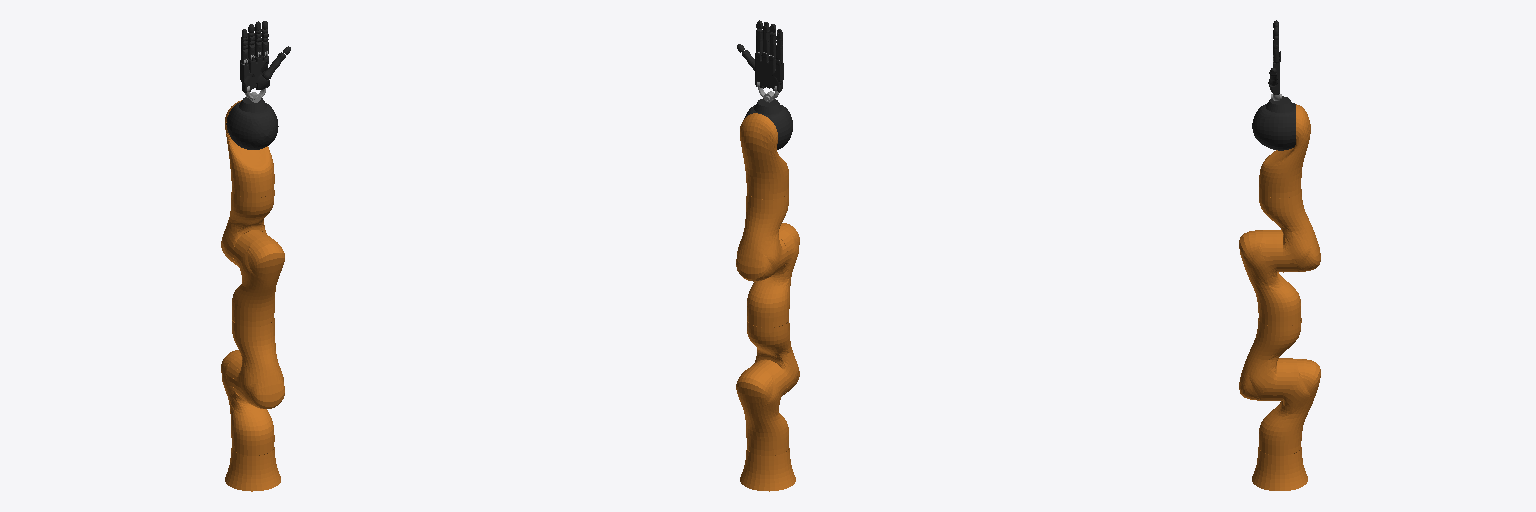
--- Render facts (derived) ---
The picture shows the robot from 3 angles, left to right: view 1: azimuth 30°, elevation 25°; view 2: azimuth 150°, elevation 25°; view 3: azimuth 270°, elevation 25°; orthographic projection.
Robot: kuka_lwr — 37 links, 36 joints (31 revolute, 5 fixed); root link calib_kuka_arm_base_link; default pose: all joints at 0.
Visible links, largest first — view 1: kuka_arm_3_link, kuka_arm_2_link, kuka_arm_1_link, calib_kuka_arm_base_link, kuka_arm_4_link, kuka_arm_5_link, kuka_arm_6_link, palm; view 2: kuka_arm_1_link, kuka_arm_4_link, kuka_arm_5_link, kuka_arm_3_link, calib_kuka_arm_base_link, kuka_arm_2_link, palm, kuka_arm_6_link; view 3: kuka_arm_3_link, kuka_arm_1_link, kuka_arm_2_link, kuka_arm_4_link, kuka_arm_5_link, calib_kuka_arm_base_link, kuka_arm_6_link.
Link boxes in pixels (box(x1,y1,x2,y2)): kuka_arm_3_link: box(232, 230, 284, 321); kuka_arm_2_link: box(232, 315, 284, 408); kuka_arm_1_link: box(221, 350, 274, 449); calib_kuka_arm_base_link: box(225, 444, 280, 491); kuka_arm_4_link: box(221, 186, 274, 264); kuka_arm_5_link: box(225, 100, 274, 192); kuka_arm_6_link: box(226, 102, 278, 149); palm: box(241, 54, 269, 92); kuka_arm_1_link: box(736, 360, 788, 450); kuka_arm_4_link: box(736, 188, 788, 281); kuka_arm_5_link: box(740, 113, 788, 193); kuka_arm_3_link: box(747, 223, 799, 322); calib_kuka_arm_base_link: box(740, 444, 795, 491); kuka_arm_2_link: box(747, 316, 799, 394); palm: box(755, 52, 782, 92); kuka_arm_6_link: box(744, 105, 792, 149); kuka_arm_3_link: box(1239, 230, 1300, 321); kuka_arm_1_link: box(1259, 358, 1320, 449); kuka_arm_2_link: box(1239, 315, 1301, 400); kuka_arm_4_link: box(1259, 187, 1320, 272); kuka_arm_5_link: box(1259, 104, 1310, 192); calib_kuka_arm_base_link: box(1252, 444, 1307, 490); kuka_arm_6_link: box(1252, 103, 1295, 150).
Size in the robot's own frame: 0.1913 by 0.2322 by 1.42 metres.
30 mesh visuals loaded from 16 distinct referenced files (16 binary STL).

The robot description file, URDF, robot "kuka_lwr":
<?xml version="1.0" ?>
<robot name="kuka_lwr">
  <material name="Blue">
    <color rgba="0.0 0.0 0.8 1.0"/>
  </material>
  <material name="Green">
    <color rgba="0.0 0.8 0.0 1.0"/>
  </material>
  <material name="BiotacGreen">
    <color rgba="0.31 0.85 0.42 1.0"/>
  </material>
  <material name="Orange">
    <color rgba="0.8 0.5 0.2 1.0"/>
  </material>
  <material name="Grey">
    <color rgba="0.2 0.2 0.2 1.0"/>
  </material>
  <material name="LightGrey">
    <color rgba="0.6 0.6 0.6 1.0"/>
  </material>
  <material name="Red">
    <color rgba="0.8 0.0 0.0 1.0"/>
  </material>
  <material name="White">
    <color rgba="1.0 1.0 1.0 1.0"/>
  </material>
  <!-- right is either 1 (for right arm) or -1 (for left arm) -->
  <link name="calib_kuka_arm_base_link">
    <inertial>
      <mass value="1e-20"/>
      <!-- static base, disable dynamics for this link -->
      <origin rpy="0 0 0" xyz="0 0 0.055"/>
      <inertia ixx="0.00381666666667" ixy="0" ixz="0" iyy="0.0036" iyz="0" izz="0.00381666666667"/>
    </inertial>
    <visual>
      <origin rpy="-1.57 0 0" xyz="0 0 0"/>
      <geometry>
        <mesh filename="package://robowflex_resources/shadowhand/meshes/meshes_arm/arm_base.stl"/>
      </geometry>
      <material name="Orange"/>
    </visual>
    <collision>
      <origin rpy="-1.57 0 0" xyz="0 0 0"/>
      <geometry>
        <mesh filename="package://robowflex_resources/shadowhand/meshes/meshes_arm/arm_base.stl"/>
      </geometry>
      <material name="Orange"/>
    </collision>
  </link>
  <joint name="kuka_arm_0_joint" type="revolute">
    <origin rpy="0 0 0" xyz="0 0 0.11"/>
    <axis xyz="0 0 1"/>
    <limit effort="204" lower="-2.96705972839" upper="2.96705972839" velocity="1.91986217719"/>
    <dynamics damping="0.1"/>
    <parent link="calib_kuka_arm_base_link"/>
    <child link="kuka_arm_1_link"/>
  </joint>
  <link name="kuka_arm_1_link">
    <inertial>
      <mass value="2.0"/>
      <origin rpy="0 0 0" xyz="0 0.04 0.130"/>
      <inertia ixx="0.0136666666667" ixy="0" ixz="0" iyy="0.0118666666667" iyz="0" izz="0.003"/>
    </inertial>
    <visual>
      <origin rpy="-1.57 0 3.14159265359" xyz="0 0 0"/>
      <geometry>
        <mesh filename="package://robowflex_resources/shadowhand/meshes/meshes_arm/arm_segment_a.stl"/>
      </geometry>
      <material name="Orange"/>
    </visual>
    <collision>
      <origin rpy="-1.57 0 3.14159265359" xyz="0 0 0"/>
      <geometry>
        <mesh filename="package://robowflex_resources/shadowhand/meshes/meshes_arm/arm_segment_a.stl"/>
      </geometry>
      <material name="Orange"/>
    </collision>
  </link>
  <transmission name="kuka_arm_0_trans" type="pr2_mechanism_model/SimpleTransmission">
    <actuator name="kuka_arm_0_motor"/>
    <joint name="kuka_arm_0_joint"/>
    <mechanicalReduction>1.0</mechanicalReduction>
  </transmission>
  <joint name="kuka_arm_1_joint" type="revolute">
    <origin rpy="0 0 0" xyz="0 0 0.20"/>
    <axis xyz="0 -1 0"/>
    <limit effort="306" lower="-1.57079632679" upper="1.57079632679" velocity="1.91986217719"/>
    <dynamics damping="0.1"/>
    <parent link="kuka_arm_1_link"/>
    <child link="kuka_arm_2_link"/>
  </joint>
  <link name="kuka_arm_2_link">
    <inertial>
      <mass value="2.0"/>
      <origin rpy="0 0 0" xyz="0 -0.04 0.07"/>
      <inertia ixx="0.0136666666667" ixy="0" ixz="0" iyy="0.0118666666667" iyz="0" izz="0.003"/>
    </inertial>
    <visual>
      <origin rpy="1.57 0 3.14159265359" xyz="0 0 0.2"/>
      <!-- <origin rpy="-1.57 0 0" xyz="0 0 0"/> -->
      <geometry>
        <mesh filename="package://robowflex_resources/shadowhand/meshes/meshes_arm/arm_segment_b.stl"/>
      </geometry>
      <material name="Orange"/>
    </visual>
    <collision>
      <origin rpy="1.57 0 3.14159265359" xyz="0 0 0.2"/>
      <!-- <origin rpy="-1.57 0 0" xyz="0 0 0"/> -->
      <geometry>
        <mesh filename="package://robowflex_resources/shadowhand/meshes/meshes_arm/arm_segment_b.stl"/>
      </geometry>
      <material name="Orange"/>
    </collision>
  </link>
  <transmission name="kuka_arm_1_trans" type="pr2_mechanism_model/SimpleTransmission">
    <actuator name="kuka_arm_1_motor"/>
    <joint name="kuka_arm_1_joint"/>
    <mechanicalReduction>1.0</mechanicalReduction>
  </transmission>
  <joint name="kuka_arm_2_joint" type="revolute">
    <origin rpy="0 0 0" xyz="0 0 0.20"/>
    <axis xyz="0 0 1"/>
    <limit effort="204" lower="-2.96705972839" upper="2.96705972839" velocity="2.26892802759"/>
    <dynamics damping="0.1"/>
    <parent link="kuka_arm_2_link"/>
    <child link="kuka_arm_3_link"/>
  </joint>
  <link name="kuka_arm_3_link">
    <inertial>
      <mass value="2.0"/>
      <origin rpy="0 0 0" xyz="0 -0.04 0.130"/>
      <inertia ixx="0.0136666666667" ixy="0" ixz="0" iyy="0.0118666666667" iyz="0" izz="0.003"/>
    </inertial>
    <visual>
      <origin rpy="-1.57 0 0" xyz="0 0 0"/>
      <geometry>
        <mesh filename="package://robowflex_resources/shadowhand/meshes/meshes_arm/arm_segment_a.stl"/>
      </geometry>
      <material name="Orange"/>
    </visual>
    <collision>
      <origin rpy="-1.57 0 0" xyz="0 0 0"/>
      <geometry>
        <mesh filename="package://robowflex_resources/shadowhand/meshes/meshes_arm/arm_segment_a.stl"/>
      </geometry>
      <material name="Orange"/>
    </collision>
  </link>
  <transmission name="kuka_arm_2_trans" type="pr2_mechanism_model/SimpleTransmission">
    <actuator name="kuka_arm_2_motor"/>
    <joint name="kuka_arm_2_joint"/>
    <mechanicalReduction>1.0</mechanicalReduction>
  </transmission>
  <joint name="kuka_arm_3_joint" type="revolute">
    <origin rpy="0 0 0" xyz="0 0 0.20"/>
    <axis xyz="0 1 0"/>
    <limit effort="306" lower="-2.09439510239" upper="2.09439510239" velocity="2.26892802759"/>
    <dynamics damping="0.1"/>
    <parent link="kuka_arm_3_link"/>
    <child link="kuka_arm_4_link"/>
  </joint>
  <link name="kuka_arm_4_link">
    <inertial>
      <mass value="2.0"/>
      <origin rpy="0 0 0" xyz="0 0.04 0.07"/>
      <inertia ixx="0.0136666666667" ixy="0" ixz="0" iyy="0.0118666666667" iyz="0" izz="0.003"/>
    </inertial>
    <visual>
      <origin rpy="-1.57 3.14159265359 3.14159265359" xyz="0 0 0.2"/>
      <geometry>
        <mesh filename="package://robowflex_resources/shadowhand/meshes/meshes_arm/arm_segment_b.stl"/>
      </geometry>
      <material name="Orange"/>
    </visual>
    <collision>
      <origin rpy="-1.57 3.14159265359 3.14159265359" xyz="0 0 0.2"/>
      <geometry>
        <mesh filename="package://robowflex_resources/shadowhand/meshes/meshes_arm/arm_segment_b.stl"/>
      </geometry>
      <material name="Orange"/>
    </collision>
  </link>
  <transmission name="kuka_arm_3_trans" type="pr2_mechanism_model/SimpleTransmission">
    <actuator name="kuka_arm_3_motor"/>
    <joint name="kuka_arm_3_joint"/>
    <mechanicalReduction>1.0</mechanicalReduction>
  </transmission>
  <joint name="kuka_arm_4_joint" type="revolute">
    <origin rpy="0 0 0" xyz="0 0 0.20"/>
    <axis xyz="0 0 1"/>
    <limit effort="204" lower="-2.96705972839" upper="2.96705972839" velocity="2.26892802759"/>
    <dynamics damping="0.1"/>
    <parent link="kuka_arm_4_link"/>
    <child link="kuka_arm_5_link"/>
  </joint>
  <link name="kuka_arm_5_link">
    <inertial>
      <mass value="2.0"/>
      <origin rpy="0 0 0" xyz="0 0.02 0.124"/>
      <inertia ixx="0.0126506666667" ixy="0" ixz="0" iyy="0.0108506666667" iyz="0" izz="0.003"/>
    </inertial>
    <visual>
      <origin rpy="-1.57 0 3.14159265359" xyz="0 0 0"/>
      <geometry name="kuka_arm_5_geom">
        <mesh filename="package://robowflex_resources/shadowhand/meshes/meshes_arm/arm_segment_last.stl"/>
      </geometry>
      <material name="Orange"/>
    </visual>
    <collision>
      <origin rpy="-1.57 0 3.14159265359" xyz="0 0 0"/>
      <geometry name="kuka_arm_5_geom">
        <mesh filename="package://robowflex_resources/shadowhand/meshes/meshes_arm/arm_segment_last.stl"/>
      </geometry>
      <material name="Orange"/>
    </collision>
  </link>
  <transmission name="kuka_arm_4_trans" type="pr2_mechanism_model/SimpleTransmission">
    <actuator name="kuka_arm_4_motor"/>
    <joint name="kuka_arm_4_joint"/>
    <mechanicalReduction>1.0</mechanicalReduction>
  </transmission>
  <joint name="kuka_arm_5_joint" type="revolute">
    <origin rpy="0 0 0" xyz="0 0 0.19"/>
    <axis xyz="0 -1 0"/>
    <limit effort="306" lower="-1.49439510239" upper="1.70439510239" velocity="3.14159265359"/>
    <dynamics damping="0.1"/>
    <parent link="kuka_arm_5_link"/>
    <child link="kuka_arm_6_link"/>
  </joint>
  <link name="kuka_arm_6_link">
    <inertial>
      <mass value="2.0"/>
      <origin rpy="0 0 0" xyz="0 0 0"/>
      <inertia ixx="0.00520833333333" ixy="0" ixz="0" iyy="0.00520833333333" iyz="0" izz="0.00520833333333"/>
    </inertial>
    <visual>
      <origin rpy="-1.57 0 3.14159265359" xyz="0 0 0"/>
      <geometry>
        <mesh filename="package://robowflex_resources/shadowhand/meshes/meshes_arm/arm_wrist.stl"/>
      </geometry>
      <material name="Grey"/>
    </visual>
    <collision>
      <origin rpy="-1.57 0 3.14159265359" xyz="0 0 0"/>
      <geometry>
        <mesh filename="package://robowflex_resources/shadowhand/meshes/meshes_arm/arm_wrist.stl"/>
      </geometry>
      <material name="Grey"/>
    </collision>
  </link>
  <transmission name="kuka_arm_5_trans" type="pr2_mechanism_model/SimpleTransmission">
    <actuator name="kuka_arm_5_motor"/>
    <joint name="kuka_arm_5_joint"/>
    <mechanicalReduction>1.0</mechanicalReduction>
  </transmission>
  <joint name="kuka_arm_6_joint" type="revolute">
    <origin rpy="0 0 0" xyz="0 0 0.078"/>
    <axis xyz="0 0 1"/>
    <limit effort="204" lower="-2.96705972839" upper="2.96705972839" velocity="3.14159265359"/>
    <dynamics damping="0.1"/>
    <parent link="kuka_arm_6_link"/>
    <child link="kuka_arm_7_link"/>
  </joint>
  <link name="kuka_arm_7_link">
    <inertial>
      <mass value="2.0"/>
      <origin xyz="0 0 0"/>
      <inertia ixx="0.000833333333333" ixy="0" ixz="0" iyy="0.000833333333333" iyz="0" izz="0.000833333333333"/>
    </inertial>
    <visual>
      <origin rpy="-1.57 0 3.14159265359" xyz="0 0 0"/>
      <geometry>
        <mesh filename="package://robowflex_resources/shadowhand/meshes/meshes_arm/arm_flanche.stl"/>
      </geometry>
      <material name="Grey"/>
    </visual>
    <collision>
      <origin rpy="-1.57 0 3.14159265359" xyz="0 0 0"/>
      <geometry>
        <mesh filename="package://robowflex_resources/shadowhand/meshes/meshes_arm/arm_flanche.stl"/>
      </geometry>
      <material name="Grey"/>
    </collision>
  </link>
  <transmission name="kuka_arm_6_trans" type="pr2_mechanism_model/SimpleTransmission">
    <actuator name="kuka_arm_6_motor"/>
    <joint name="kuka_arm_6_joint"/>
    <mechanicalReduction>1.0</mechanicalReduction>
  </transmission>

  <link name="wrist">
    <inertial>
      <origin rpy="0 0 0" xyz="0 0.0 0.0" />

      <mass value="0.1" />
      <inertia ixx="0.120" ixy="0.0" ixz="0.0" iyy="0.148" iyz="0.0" izz="0.0438" />
    </inertial>
    <visual>
      <origin rpy="0 0 0" xyz="0 0 0" />
      <geometry name="wrist_visual">
        <mesh filename="package://robowflex_resources/shadowhand/meshes/meshes_hand/wrist.stl"/>
      </geometry>
      <material name="LightGrey" />
    </visual>
    <collision>
      <origin rpy="0 0 0" xyz="0 0 0" />
      <geometry name="wrist_collision_geom">
        <box size="0.02 0.02 0.02" />
      </geometry>
    </collision>
  </link>
  <joint name="WRJ2" type="revolute">
    <parent link="kuka_arm_7_link" />
    <child link="wrist" />
    <origin rpy="0 0 0" xyz="0 -0.010 0.012" />
    <axis xyz="0 1 0" />
    <limit effort="5" lower="-0.52359877559829882" upper="0.17453292519943295" velocity="1.0" />
    <dynamics damping="100.5" />
  </joint>
  <link name="palm">
    <inertial>
      <origin rpy="0 0 0" xyz="0 0 0.035" />
      <mass value="0.3" />
      <inertia ixx="0.5" ixy="0.0" ixz="0.0" iyy="0.5" iyz="0.0" izz="0.3" />
    </inertial>
    <visual>
      <origin rpy="-1.57 0 0" xyz="0 0 0" />
      <geometry name="palm_visual">
        <mesh filename="package://robowflex_resources/shadowhand/meshes/meshes_hand/palm.stl"/>
      </geometry>
      <material name="Grey" />
    </visual>
    <collision>
      <origin rpy="0 0 0" xyz="0.005 0 0.035" />
      <geometry name="palm_collision_geom">
        <box size="0.05 0.02 0.07" />
      </geometry>
    </collision>
  </link>
  <joint name="WRJ1" type="revolute">
    <parent link="wrist" />
    <child link="palm" />
    <origin rpy="0 0 0" xyz="0 0 0.034" />
    <axis xyz="1 0 0" />
    <limit effort="5" lower="-0.78539816339744828" upper="0.6108652381980153" velocity="1.0" />
    <dynamics damping="100.5" />
  </joint>

  <!--############################################################-->
  <link name="ffknuckle">
    <inertial>
      <origin rpy="0 0 0" xyz="0 0 0" />

      <mass value="0.008" />
      <inertia ixx="0.0001" ixy="0.0" ixz="0.0" iyy="0.1" iyz="0.0" izz="0.0001" />
    </inertial>
    <visual>
      <origin rpy="0 0 0" xyz="0 0 0.0005" />
      <geometry name="knuckle_visual">
        <mesh filename="package://robowflex_resources/shadowhand/meshes/meshes_hand/knuckle.stl"/>
      </geometry>
      <material name="LightGrey" />
    </visual>
    <collision>
      <origin rpy="0 0 0" xyz="0 0 0" />
      <geometry name="knuckle_collision_geom">
        <box size="0.005 0.005 0.005" />
      </geometry>
    </collision>
  </link>
  <joint name="FFJ4" type="revolute">
    <parent link="palm" />
    <child link="ffknuckle" />

    <origin rpy="0 0 0" xyz="0.033 0 0.095" />
    <axis xyz="0 -1 0" />
    <limit effort="100" lower="-0.43633231299858238" upper="0.43633231299858238" velocity="1.0" />
    <dynamics damping="50.5" />
  </joint>
  <link name="ffproximal">
    <inertial>
      <mass value="0.014" />
      <origin xyz="0 0 0.0225" />
      <inertia ixx="0.1" ixy="0.0" ixz="0.0" iyy="0.1" iyz="0.0" izz="0.0001" />
    </inertial>
    <visual>
      <origin rpy="0 0 0" xyz="0 0 0" />
      <geometry name="proximal_visual">
        <mesh filename="package://robowflex_resources/shadowhand/meshes/meshes_hand/F3.stl"/>
      </geometry>
      <material name="Grey" />
    </visual>
    <collision>
      <origin rpy="0 0 0 " xyz="0 0 0.025" />
      <geometry name="proximal_collision_geom">
        <box size="0.008 0.008 0.04" />
      </geometry>
    </collision>
  </link>
  <joint name="FFJ3" type="revolute">
    <parent link="ffknuckle" />
    <child link="ffproximal" />
    <origin rpy="0 0 0" xyz="0 0 0" />
    <axis xyz="1 0 0" />
    <limit effort="100" lower="0" upper="1.57079632679" velocity="1.0" />
    <dynamics damping="50.5" />
  </joint>
  <link name="ffmiddle">
    <inertial>
      <origin rpy="0 0 0" xyz="0 0 0.0125" />
      <mass value="0.012" />
      <inertia ixx="0.1" ixy="0.0" ixz="0.0" iyy="0.1" iyz="0.0" izz="0.0001" />
    </inertial>
    <visual>
      <origin rpy="0 0 0" xyz="0 0 0" />
      <geometry name="middle_visual">
        <mesh filename="package://robowflex_resources/shadowhand/meshes/meshes_hand/F2.stl"/>
      </geometry>
      <material name="Grey" />
    </visual>
    <collision>
      <origin rpy="0 0 0" xyz="0 0 0.0125" />
      <geometry name="middle_collision_geom">
        <box size="0.008 0.008 0.015" />
      </geometry>
    </collision>
  </link>
  <joint name="FFJ2" type="revolute">
    <parent link="ffproximal" />
    <child link="ffmiddle" />
    <origin rpy="0 0 0" xyz="0 0 0.045" />
    <axis xyz="1 0 0" />
    <limit effort="100" lower="0" upper="1.57079632679" velocity="1.0" />
    <dynamics damping="50.5" />
  </joint>
  <link name="ffdistal">
    <inertial>
      <mass value="0.010" />
      <origin xyz="0 0 0.013" />
      <inertia ixx="0.1" ixy="0.0" ixz="0.0" iyy="0.1" iyz="0.0" izz="0.0001" />
    </inertial>
    <visual>
      <origin rpy="0 0 0" xyz="0 0 0" />
      <geometry name="distal_visual">
        <mesh filename="package://robowflex_resources/shadowhand/meshes/meshes_hand/distal_ellipsoid.stl"/>
      </geometry>
      <material name="Grey" />
    </visual>

    <collision>
      <origin rpy="0 0 0" xyz="0 0 0" />
      <geometry name="distal_collision_geom">
        <mesh filename="package://robowflex_resources/shadowhand/meshes/meshes_hand/distal_ellipsoid.stl"/>
      </geometry>
    </collision>
  </link>
  <joint name="FFJ1" type="revolute">
    <parent link="ffmiddle" />
    <child link="ffdistal" />
    <origin rpy="0 0 0" xyz="0 0 0.025" />
    <axis xyz="1 0 0" />
    <limit effort="100" lower="0" upper="1.57079632679" velocity="1.0" />
    <dynamics damping="50.5" />
  </joint>
  <link name="fftip">
    <inertial>
      <mass value="0.001" />
      <inertia ixx="0.0001" ixy="0.0" ixz="0.0" iyy="0.0001" iyz="0.0" izz="0.0001" />
    </inertial>
  </link>
  <joint name="FFtip" type="fixed">
    <parent link="ffdistal" />
    <child link="fftip" />
    <origin rpy="0 0 0" xyz="0 0 0.026" />
  </joint>




  <!--############################################################-->
  <link name="mfknuckle">
    <inertial>
      <origin rpy="0 0 0" xyz="0 0 0" />

      <mass value="0.008" />
      <inertia ixx="0.0001" ixy="0.0" ixz="0.0" iyy="0.1" iyz="0.0" izz="0.0001" />
    </inertial>
    <visual>
      <origin rpy="0 0 0" xyz="0 0 0.0005" />
      <geometry name="knuckle_visual">
        <mesh filename="package://robowflex_resources/shadowhand/meshes/meshes_hand/knuckle.stl"/>
      </geometry>
      <material name="LightGrey" />
    </visual>
    <collision>
      <origin rpy="0 0 0" xyz="0 0 0" />
      <geometry name="knuckle_collision_geom">
        <box size="0.005 0.005 0.005" />
      </geometry>
    </collision>
  </link>
  <joint name="MFJ4" type="revolute">
    <parent link="palm" />
    <child link="mfknuckle" />

    <origin rpy="0 0 0" xyz="0.011 0 0.099" />
    <axis xyz="0 -1 0" />
    <limit effort="100" lower="-0.43633231299858238" upper="0.43633231299858238" velocity="1.0" />
    <dynamics damping="50.5" />
  </joint>
  <link name="mfproximal">
    <inertial>
      <mass value="0.014" />
      <origin xyz="0 0 0.0225" />
      <inertia ixx="0.1" ixy="0.0" ixz="0.0" iyy="0.1" iyz="0.0" izz="0.0001" />
    </inertial>
    <visual>
      <origin rpy="0 0 0" xyz="0 0 0" />
      <geometry name="proximal_visual">
        <mesh filename="package://robowflex_resources/shadowhand/meshes/meshes_hand/F3.stl"/>
      </geometry>
      <material name="Grey" />
    </visual>
    <collision>
      <origin rpy="0 0 0 " xyz="0 0 0.025" />
      <geometry name="proximal_collision_geom">
        <box size="0.008 0.008 0.04" />
      </geometry>
    </collision>
  </link>
  <joint name="MFJ3" type="revolute">
    <parent link="mfknuckle" />
    <child link="mfproximal" />
    <origin rpy="0 0 0" xyz="0 0 0" />
    <axis xyz="1 0 0" />
    <limit effort="100" lower="0" upper="1.57079632679" velocity="1.0" />
    <dynamics damping="50.5" />
  </joint>
  <link name="mfmiddle">
    <inertial>
      <origin rpy="0 0 0" xyz="0 0 0.0125" />
      <mass value="0.012" />
      <inertia ixx="0.1" ixy="0.0" ixz="0.0" iyy="0.1" iyz="0.0" izz="0.0001" />
    </inertial>
    <visual>
      <origin rpy="0 0 0" xyz="0 0 0" />
      <geometry name="middle_visual">
        <mesh filename="package://robowflex_resources/shadowhand/meshes/meshes_hand/F2.stl"/>
      </geometry>
      <material name="Grey" />
    </visual>
    <collision>
      <origin rpy="0 0 0" xyz="0 0 0.0125" />
      <geometry name="middle_collision_geom">
        <box size="0.008 0.008 0.015" />
      </geometry>
    </collision>
  </link>
  <joint name="MFJ2" type="revolute">
    <parent link="mfproximal" />
    <child link="mfmiddle" />
    <origin rpy="0 0 0" xyz="0 0 0.045" />
    <axis xyz="1 0 0" />
    <limit effort="100" lower="0" upper="1.57079632679" velocity="1.0" />
    <dynamics damping="50.5" />
  </joint>
  <link name="mfdistal">
    <inertial>
      <mass value="0.010" />
      <origin xyz="0 0 0.013" />
      <inertia ixx="0.1" ixy="0.0" ixz="0.0" iyy="0.1" iyz="0.0" izz="0.0001" />
    </inertial>
    <visual>
      <origin rpy="0 0 0" xyz="0 0 0" />
      <geometry name="distal_visual">
        <mesh filename="package://robowflex_resources/shadowhand/meshes/meshes_hand/F1.stl"/>
      </geometry>
      <material name="Grey" />
    </visual>

    <collision>
      <origin rpy="0 0 0" xyz="0 0 0" />
      <geometry name="distal_collision_geom">
        <mesh filename="package://robowflex_resources/shadowhand/meshes/meshes_hand/F1.stl"/>
      </geometry>
    </collision>
  </link>
  <joint name="MFJ1" type="revolute">
    <parent link="mfmiddle" />
    <child link="mfdistal" />
    <origin rpy="0 0 0" xyz="0 0 0.025" />
    <axis xyz="1 0 0" />
    <limit effort="100" lower="0" upper="1.57079632679" velocity="1.0" />
    <dynamics damping="50.5" />
  </joint>
  <link name="mftip">
    <inertial>
      <mass value="0.001" />
      <inertia ixx="0.0001" ixy="0.0" ixz="0.0" iyy="0.0001" iyz="0.0" izz="0.0001" />
    </inertial>
  </link>
  <joint name="MFtip" type="fixed">
    <parent link="mfdistal" />
    <child link="mftip" />
    <origin rpy="0 0 0" xyz="0 0 0.026" />
  </joint>
  <link name="rfknuckle">
    <inertial>
      <origin rpy="0 0 0" xyz="0 0 0" />

      <mass value="0.008" />
      <inertia ixx="0.0001" ixy="0.0" ixz="0.0" iyy="0.1" iyz="0.0" izz="0.0001" />
    </inertial>
    <visual>
      <origin rpy="0 0 0" xyz="0 0 0.0005" />
      <geometry name="knuckle_visual">
        <mesh filename="package://robowflex_resources/shadowhand/meshes/meshes_hand/knuckle.stl"/>
      </geometry>
      <material name="LightGrey" />
    </visual>
    <collision>
      <origin rpy="0 0 0" xyz="0 0 0" />
      <geometry name="knuckle_collision_geom">
        <box size="0.005 0.005 0.005" />
      </geometry>
    </collision>
  </link>
  <joint name="RFJ4" type="revolute">
    <parent link="palm" />
    <child link="rfknuckle" />

    <origin rpy="0 0 0" xyz="-0.011 0 0.095" />
    <axis xyz="0 1 0" />
    <limit effort="100" lower="-0.43633231299858238" upper="0.43633231299858238" velocity="1.0" />
    <dynamics damping="50.5" />
  </joint>
  <link name="rfproximal">
    <inertial>
      <mass value="0.014" />
      <origin xyz="0 0 0.0225" />
      <inertia ixx="0.1" ixy="0.0" ixz="0.0" iyy="0.1" iyz="0.0" izz="0.0001" />
    </inertial>
    <visual>
      <origin rpy="0 0 0" xyz="0 0 0" />
      <geometry name="proximal_visual">
        <mesh filename="package://robowflex_resources/shadowhand/meshes/meshes_hand/F3.stl"/>
      </geometry>
      <material name="Grey" />
    </visual>
    <collision>
      <origin rpy="0 0 0 " xyz="0 0 0.025" />
      <geometry name="proximal_collision_geom">
        <box size="0.008 0.008 0.04" />
      </geometry>
    </collision>
  </link>
  <joint name="RFJ3" type="revolute">
    <parent link="rfknuckle" />
    <child link="rfproximal" />
    <origin rpy="0 0 0" xyz="0 0 0" />
    <axis xyz="1 0 0" />
    <limit effort="100" lower="0" upper="1.57079632679" velocity="1.0" />
    <dynamics damping="50.5" />
  </joint>
  <link name="rfmiddle">
    <inertial>
      <origin rpy="0 0 0" xyz="0 0 0.0125" />
      <mass value="0.012" />
      <inertia ixx="0.1" ixy="0.0" ixz="0.0" iyy="0.1" iyz="0.0" izz="0.0001" />
    </inertial>
    <visual>
      <origin rpy="0 0 0" xyz="0 0 0" />
      <geometry name="middle_visual">
        <mesh filename="package://robowflex_resources/shadowhand/meshes/meshes_hand/F2.stl"/>
      </geometry>
      <material name="Grey" />
    </visual>
    <collision>
      <origin rpy="0 0 0" xyz="0 0 0.0125" />
      <geometry name="middle_collision_geom">
        <box size="0.008 0.008 0.015" />
      </geometry>
    </collision>
  </link>
  <joint name="RFJ2" type="revolute">
    <parent link="rfproximal" />
    <child link="rfmiddle" />
    <origin rpy="0 0 0" xyz="0 0 0.045" />
    <axis xyz="1 0 0" />
    <limit effort="100" lower="0" upper="1.57079632679" velocity="1.0" />
    <dynamics damping="50.5" />
  </joint>
  <link name="rfdistal">
    <inertial>
      <mass value="0.010" />
      <origin xyz="0 0 0.013" />
      <inertia ixx="0.1" ixy="0.0" ixz="0.0" iyy="0.1" iyz="0.0" izz="0.0001" />
    </inertial>
    <visual>
      <origin rpy="0 0 0" xyz="0 0 0" />
      <geometry name="distal_visual">
        <mesh filename="package://robowflex_resources/shadowhand/meshes/meshes_hand/distal_ellipsoid.stl"  />
      </geometry>
      <material name="Grey" />
    </visual>

    <collision>
      <origin rpy="0 0 0" xyz="0 0 0" />
      <geometry name="distal_collision_geom">
        <mesh filename="package://robowflex_resources/shadowhand/meshes/meshes_hand/distal_ellipsoid.stl"  />
      </geometry>
    </collision>
  </link>
  <joint name="RFJ1" type="revolute">
    <parent link="rfmiddle" />
    <child link="rfdistal" />
    <origin rpy="0 0 0" xyz="0 0 0.025" />
    <axis xyz="1 0 0" />
    <limit effort="100" lower="0" upper="1.57079632679" velocity="1.0" />
    <dynamics damping="50.5" />
  </joint>
  <link name="rftip">
    <inertial>
      <mass value="0.001" />
      <inertia ixx="0.0001" ixy="0.0" ixz="0.0" iyy="0.0001" iyz="0.0" izz="0.0001" />
    </inertial>
  </link>
  <joint name="RFtip" type="fixed">
    <parent link="rfdistal" />
    <child link="rftip" />
    <origin rpy="0 0 0" xyz="0 0 0.026" />
  </joint>
  <link name="lfmetacarpal">
    <inertial>
      <origin rpy="0 0 0" xyz="0 0 0.04" />
      <mass value="0.075" />
      <inertia ixx="0.1" ixy="0.0" ixz="0.0" iyy="0.1" iyz="0.0" izz="0.1" />
    </inertial>
    <visual>
      <origin rpy="0 0 0" xyz="0 0 0" />
      <geometry name="lfmetacarpal_visual">
        <mesh filename="package://robowflex_resources/shadowhand/meshes/meshes_hand/lfmetacarpal.stl"  />
      </geometry>
      <material name="Grey" />
    </visual>
    <collision>
      <origin rpy="0 0 0" xyz="0 0 0.04" />
      <geometry name="lfmetacarpal_collision_geom">
        <box size="0.008 0.008 0.03" />
      </geometry>
    </collision>
  </link>
  <joint name="LFJ5" type="revolute">
    <parent link="palm" />
    <child link="lfmetacarpal" />
    <origin rpy="0 0 0" xyz="-0.033 0 0.02071" />
    <axis xyz="0.573576436 0 0.819152044" />
    <limit effort="100" lower="0" upper="0.69813170079773179" velocity="1.0" />
    <dynamics damping="50.5" />
  </joint>
  <link name="lfknuckle">
    <inertial>
      <origin rpy="0 0 0" xyz="0 0 0.06579" />
      <mass value="0.008" />
      <inertia ixx="0.1" ixy="0.0" ixz="0.0" iyy="0.1" iyz="0.0" izz="0.1" />
    </inertial>
    <visual>
      <origin rpy="0 0 0" xyz="0 0 0" />
      <geometry name="knuckle_visual">
        <mesh filename="package://robowflex_resources/shadowhand/meshes/meshes_hand/knuckle.stl"  />
      </geometry>
      <material name="LightGrey" />
    </visual>
    <collision>
      <origin rpy="0 0 0" xyz="0 0 0" />
      <geometry name="knuckle_collision_geom">
        <box size="0.005 0.005 0.005" />
      </geometry>
    </collision>
  </link>
  <joint name="LFJ4" type="revolute">
    <parent link="lfmetacarpal" />
    <child link="lfknuckle" />
    <origin rpy="0 0 0" xyz="0 0 0.06579" />
    <axis xyz="0 1 0" />
    <limit effort="100" lower="-0.43633231299858238" upper="0.43633231299858238" velocity="1.0" />
    <dynamics damping="50.5" />
  </joint>
  <link name="lfproximal">
    <inertial>
      <mass value="0.014" />
      <origin xyz="0 0 0.0225" />
      <inertia ixx="0.1" ixy="0.0" ixz="0.0" iyy="0.1" iyz="0.0" izz="0.0001" />
    </inertial>
    <visual>
      <origin rpy="0 0 0" xyz="0 0 0" />
      <geometry name="proximal_visual">
        <mesh filename="package://robowflex_resources/shadowhand/meshes/meshes_hand/F3.stl"  />
      </geometry>
      <material name="Grey" />
    </visual>
    <collision>
      <origin rpy="0 0 0 " xyz="0 0 0.025" />
      <geometry name="proximal_collision_geom">
        <box size="0.008 0.008 0.04" />
      </geometry>
    </collision>
  </link>
  <joint name="LFJ3" type="revolute">
    <parent link="lfknuckle" />
    <child link="lfproximal" />
    <origin rpy="0 0 0" xyz="0 0 0" />
    <axis xyz="1 0 0" />
    <limit effort="100" lower="0" upper="1.57079632679" velocity="1.0" />
    <dynamics damping="50.5" />
  </joint>
  <link name="lfmiddle">
    <inertial>
      <origin rpy="0 0 0" xyz="0 0 0.0125" />
      <mass value="0.012" />
      <inertia ixx="0.1" ixy="0.0" ixz="0.0" iyy="0.1" iyz="0.0" izz="0.0001" />
    </inertial>
    <visual>
      <origin rpy="0 0 0" xyz="0 0 0" />
      <geometry name="middle_visual">
        <mesh filename="package://robowflex_resources/shadowhand/meshes/meshes_hand/F2.stl"  />
      </geometry>
      <material name="Grey" />
    </visual>
    <collision>
      <origin rpy="0 0 0" xyz="0 0 0.0125" />
      <geometry name="middle_collision_geom">
        <box size="0.008 0.008 0.015" />
      </geometry>
    </collision>
  </link>
  <joint name="LFJ2" type="revolute">
    <parent link="lfproximal" />
    <child link="lfmiddle" />
    <origin rpy="0 0 0" xyz="0 0 0.045" />
    <axis xyz="1 0 0" />
    <limit effort="100" lower="0" upper="1.57079632679" velocity="1.0" />
    <dynamics damping="50.5" />
  </joint>
  <link name="lfdistal">
    <inertial>
      <mass value="0.010" />
      <origin xyz="0 0 0.013" />
      <inertia ixx="0.1" ixy="0.0" ixz="0.0" iyy="0.1" iyz="0.0" izz="0.0001" />
    </inertial>
    <visual>
      <origin rpy="0 0 0" xyz="0 0 0" />
      <geometry name="distal_visual">
        <mesh filename="package://robowflex_resources/shadowhand/meshes/meshes_hand/F1.stl"  />
      </geometry>
      <material name="Grey" />
    </visual>

    <collision>
      <origin rpy="0 0 0" xyz="0 0 0" />
      <geometry name="distal_collision_geom">
        <mesh filename="package://robowflex_resources/shadowhand/meshes/meshes_hand/F1.stl"  />
      </geometry>
    </collision>
  </link>
  <joint name="LFJ1" type="revolute">
    <parent link="lfmiddle" />
    <child link="lfdistal" />
    <origin rpy="0 0 0" xyz="0 0 0.025" />
    <axis xyz="1 0 0" />
    <limit effort="100" lower="0" upper="1.57079632679" velocity="1.0" />
    <dynamics damping="50.5" />
  </joint>
  <link name="lftip">
    <inertial>
      <mass value="0.001" />
      <inertia ixx="0.0001" ixy="0.0" ixz="0.0" iyy="0.0001" iyz="0.0" izz="0.0001" />
    </inertial>
  </link>
  <joint name="LFtip" type="fixed">
    <parent link="lfdistal" />
    <child link="lftip" />
    <origin rpy="0 0 0" xyz="0 0 0.026" />
  </joint>



  <link name="KTHbase">
    <inertial>
      <mass value="0.010" />
      <origin rpy="0 0 0" xyz="0 0 0" />
      <inertia ixx="0.0001" ixy="0.0" ixz="0.0" iyy="0.0001" iyz="0.0" izz="0.1" />
    </inertial>
    <visual>
      <origin rpy="0 0 0" xyz="0 0 0" />
      <geometry name="thbase_visual">
        <box size="0.001 0.001 0.001" />
      </geometry>
      <material name="shadow_thbase_material">
        <color rgba="0.5 0.5 0.5 1.0" />
      </material>
    </visual>
    <collision>
      <origin rpy="0 0 0 " xyz="0 0 0" />
      <geometry name="thbase_collision_geom">
        <box size="0.001 0.001 0.001" />
      </geometry>
    </collision>
  </link>
  <joint name="KTHJ5" type="revolute">
    <parent link="palm" />
    <child link="KTHbase" />
    <origin rpy="0 0.785398163397 0" xyz="0.034 -0.0085 0.029" />
    <axis xyz="0 0 -1.0" />
    <limit effort="100" lower="-1.047" upper="1.047" velocity="1.0" />
    <dynamics damping="50.5" />
  </joint>
  <link name="thproximal">
    <inertial>
      <mass value="0.016" />
      <origin rpy="0 0 0" xyz="0 0 0.019" />
      <inertia ixx="0.1" ixy="0.0" ixz="0.0" iyy="0.1" iyz="0.0" izz="0.1" />
    </inertial>
    <visual>
      <origin rpy="0 0 0" xyz="0 0 0" />
      <geometry name="thproximal_visual">
        <mesh filename="package://robowflex_resources/shadowhand/meshes/meshes_hand/TH3_z.stl"  />
      </geometry>
      <material name="shadow_thproximal_material">
        <color rgba="0.2 0.2 0.2 1.0" />
      </material>
    </visual>
    <collision>
      <origin rpy="0 0 0" xyz="0 0 0.019" />
      <geometry name="thproximal_collision_geom">
        <box size="0.008 0.008 0.020" />
      </geometry>
    </collision>
  </link>
  <joint name="THJ4" type="revolute">
    <parent link="KTHbase" />
    <child link="thproximal" />
    <origin rpy="0 0 0" xyz="0 0 0" />
    <axis xyz="1.0 0 0" />
    <limit effort="100" lower="0" upper="1.309" velocity="1.0" />
    <dynamics damping="50.5" />
  </joint>
  <link name="thhub">
    <inertial>
      <mass value="0.002" />
      <origin rpy="0 0 0" xyz="0 0 0" />
      <inertia ixx="0.1" ixy="0.0" ixz="0.0" iyy="0.1" iyz="0.0" izz="0.1" />
    </inertial>
    <visual>
      <origin rpy="0 0 0" xyz="0 0 0" />
      <geometry name="thhub_visual">
        <box size="0.001 0.001 0.001" />
      </geometry>
      <material name="shadow_thhub_material">
        <color rgba="0.7 0.7 0.7 1.0" />
      </material>
    </visual>
    <collision>
      <origin rpy="0 0 0 " xyz="0 0 0" />
      <geometry name="thhub_collision_geom">
        <box size="0.001 0.001 0.001" />
      </geometry>
    </collision>
  </link>
  <joint name="THJ3" type="revolute">
    <parent link="thproximal" />
    <child link="thhub" />
    <origin rpy="0 0 0" xyz="0 0 0.038" />
    <axis xyz="1 0 0" />
    <limit effort="100" lower="-0.2618" upper="0.2618" velocity="1.0" />
    <dynamics damping="50.5" />
  </joint>
  <link name="thmiddle">
    <inertial>
      <mass value="0.016" />
      <origin rpy="0 0 0" xyz="0 0 0.016" />
      <inertia ixx="0.1" ixy="0.0" ixz="0.0" iyy="0.1" iyz="0.0" izz="0.1" />
    </inertial>
    <visual>
      <origin rpy="0 0 0" xyz="0 0 0" />
      <geometry name="thmiddle_visual">
        <mesh filename="package://robowflex_resources/shadowhand/meshes/meshes_hand/TH2_z.stl"  />
      </geometry>
      <material name="shadow_thmiddle_material">
        <color rgba="0.2 0.2 0.2 1.0" />
      </material>
    </visual>
    <collision>
      <origin rpy="0 0 0 " xyz="0 0 0.016" />
      <geometry name="thmiddle_collision_geom">
        <box size="0.008 0.008 0.015" />
      </geometry>
    </collision>
  </link>
  <joint name="THJ2" type="revolute">
    <parent link="thhub" />
    <child link="thmiddle" />
    <origin rpy="0 0 0" xyz="0 0 0" />
    <axis xyz="0 -1 0" />
    <limit effort="100" lower="-0.5237" upper="0.5237" velocity="1.0" />
    <dynamics damping="50.5" />
  </joint>
  <link name="thdistal">
    <inertial>
      <mass value="0.016" />
      <origin rpy="0 0 0" xyz="0 0 0.01375" />
      <inertia ixx="0.1" ixy="0.0" ixz="0.0" iyy="0.1" iyz="0.0" izz="0.1" />
    </inertial>
    <visual>
      <origin rpy="0 0 0" xyz="0 0.002 0.0025" />
      <geometry name="thdistal_visual">
        <mesh filename="package://robowflex_resources/shadowhand/meshes/meshes_hand/distal_ellipsoid.stl"  />
      </geometry>
      <material name="shadow_thmiddle_material">
        <color rgba="0.2 0.2 0.2 1.0" />
      </material>
    </visual>
    <collision>
      <origin rpy="0 0 0 " xyz="0 0.002 0.0025" />
      <geometry name="thmiddle_collision_geom">
        <mesh filename="package://robowflex_resources/shadowhand/meshes/meshes_hand/distal_ellipsoid.stl"  />
      </geometry>
    </collision>
  </link>
  <joint name="THJ1" type="revolute">
    <parent link="thmiddle" />
    <child link="thdistal" />
    <origin rpy="0 0 -1.570796327" xyz="0 0 0.032" />
    <axis xyz="1 0 0" />
    <limit effort="100" lower="0" upper="1.571" velocity="1.0" />
    <dynamics damping="50.5" />
  </joint>
  <link name="thtip">
    <inertial>
      <mass value="0.001" />
      <inertia ixx="0.1" ixy="0.0" ixz="0.0" iyy="0.1" iyz="0.0" izz="0.1" />
    </inertial>
  </link>
  <joint name="thtip_joint" type="fixed">
    <parent link="thdistal" />
    <child link="thtip" />
    <origin rpy="0 0 0" xyz="0 0 0.0275" />
  </joint>

</robot>
